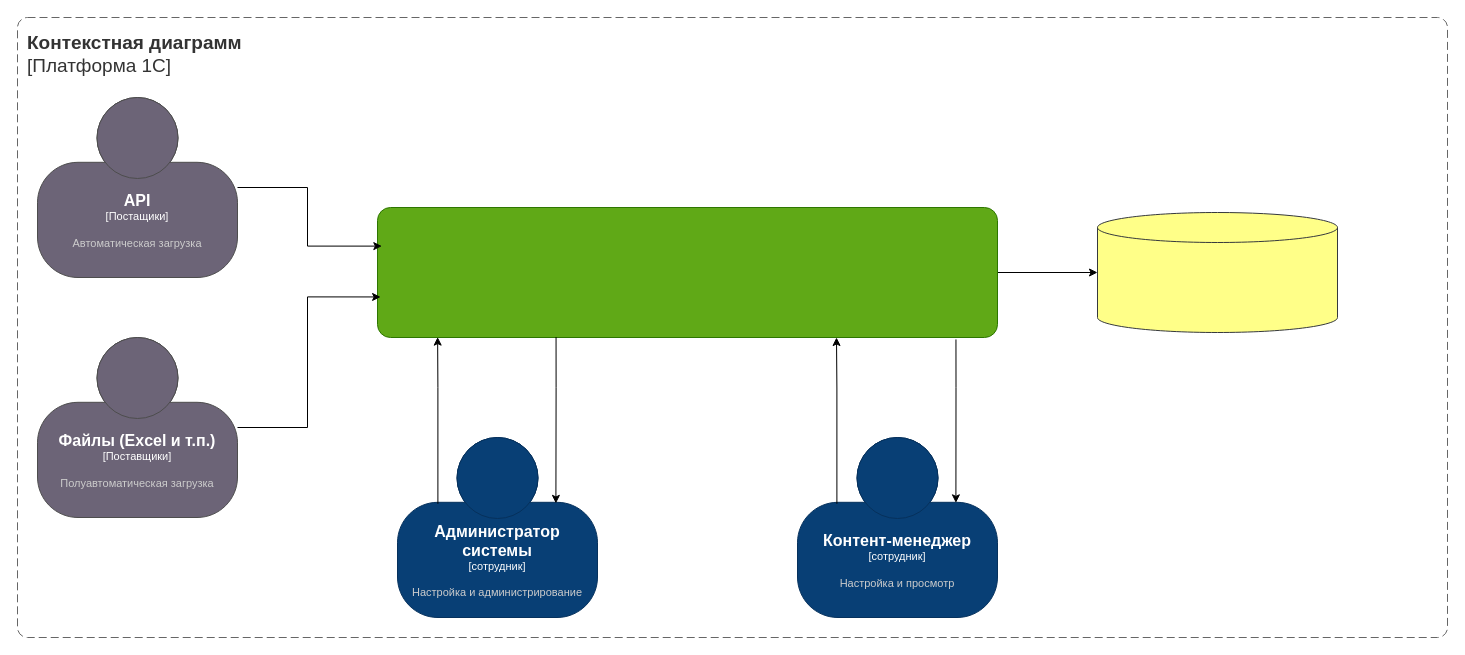
This 1465x655 diagram has some shape labels left out. The shapes that lost their labels are listed below. From the top down, each one's centre as x and y in pixels, then its label:
At pixel 687 272: "Агрегатор [платформа 1С] Подсистема обмена с поставщиками".
At pixel 1217 272: "Управление торговлей [платформа: 1С] Корпоративная система".
